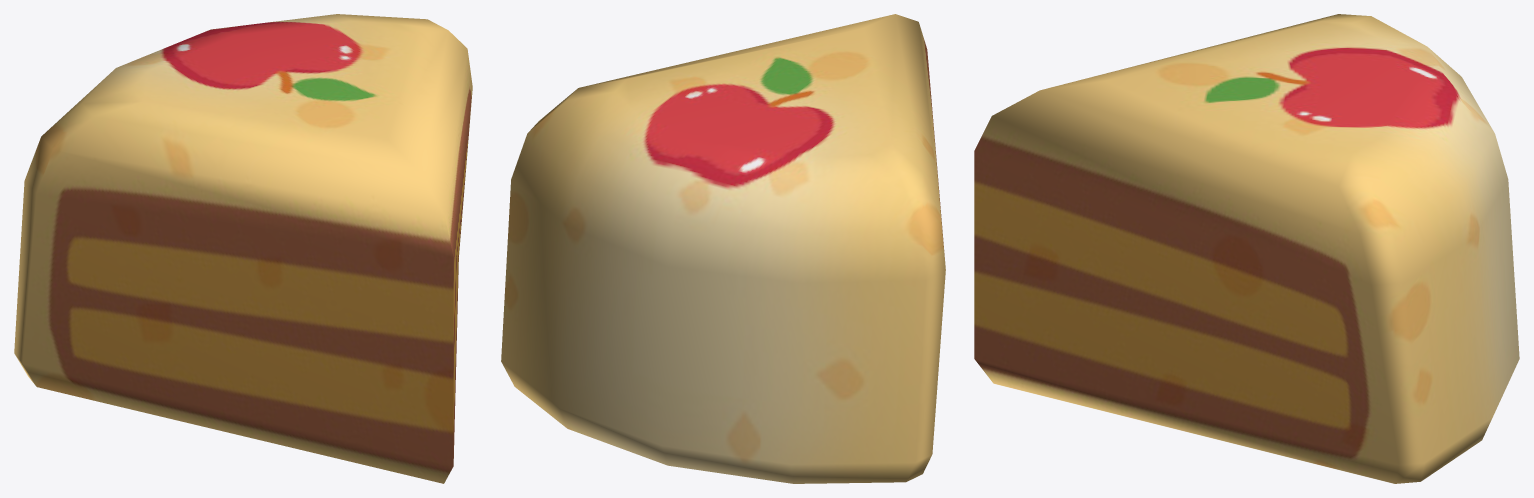
File: cake_apple.fbx
3 views of the same model, side by side, from view 1: azimuth 30°, elevation 25°; view 2: azimuth 150°, elevation 25°; view 3: azimuth 270°, elevation 25° (orthographic). The views are drawn at different scales.
Visible parts, largest first — view 1: cake_apple; view 2: cake_apple; view 3: cake_apple.
Boxes of the visible parts, bbox=[...] form: cake_apple: bbox=[14, 14, 472, 483]; cake_apple: bbox=[501, 14, 945, 483]; cake_apple: bbox=[974, 14, 1519, 483].
Bounding box in the file's own units: 6.75 × 4.64 × 7.32.
Materials: 1 (1 with a texture image).
